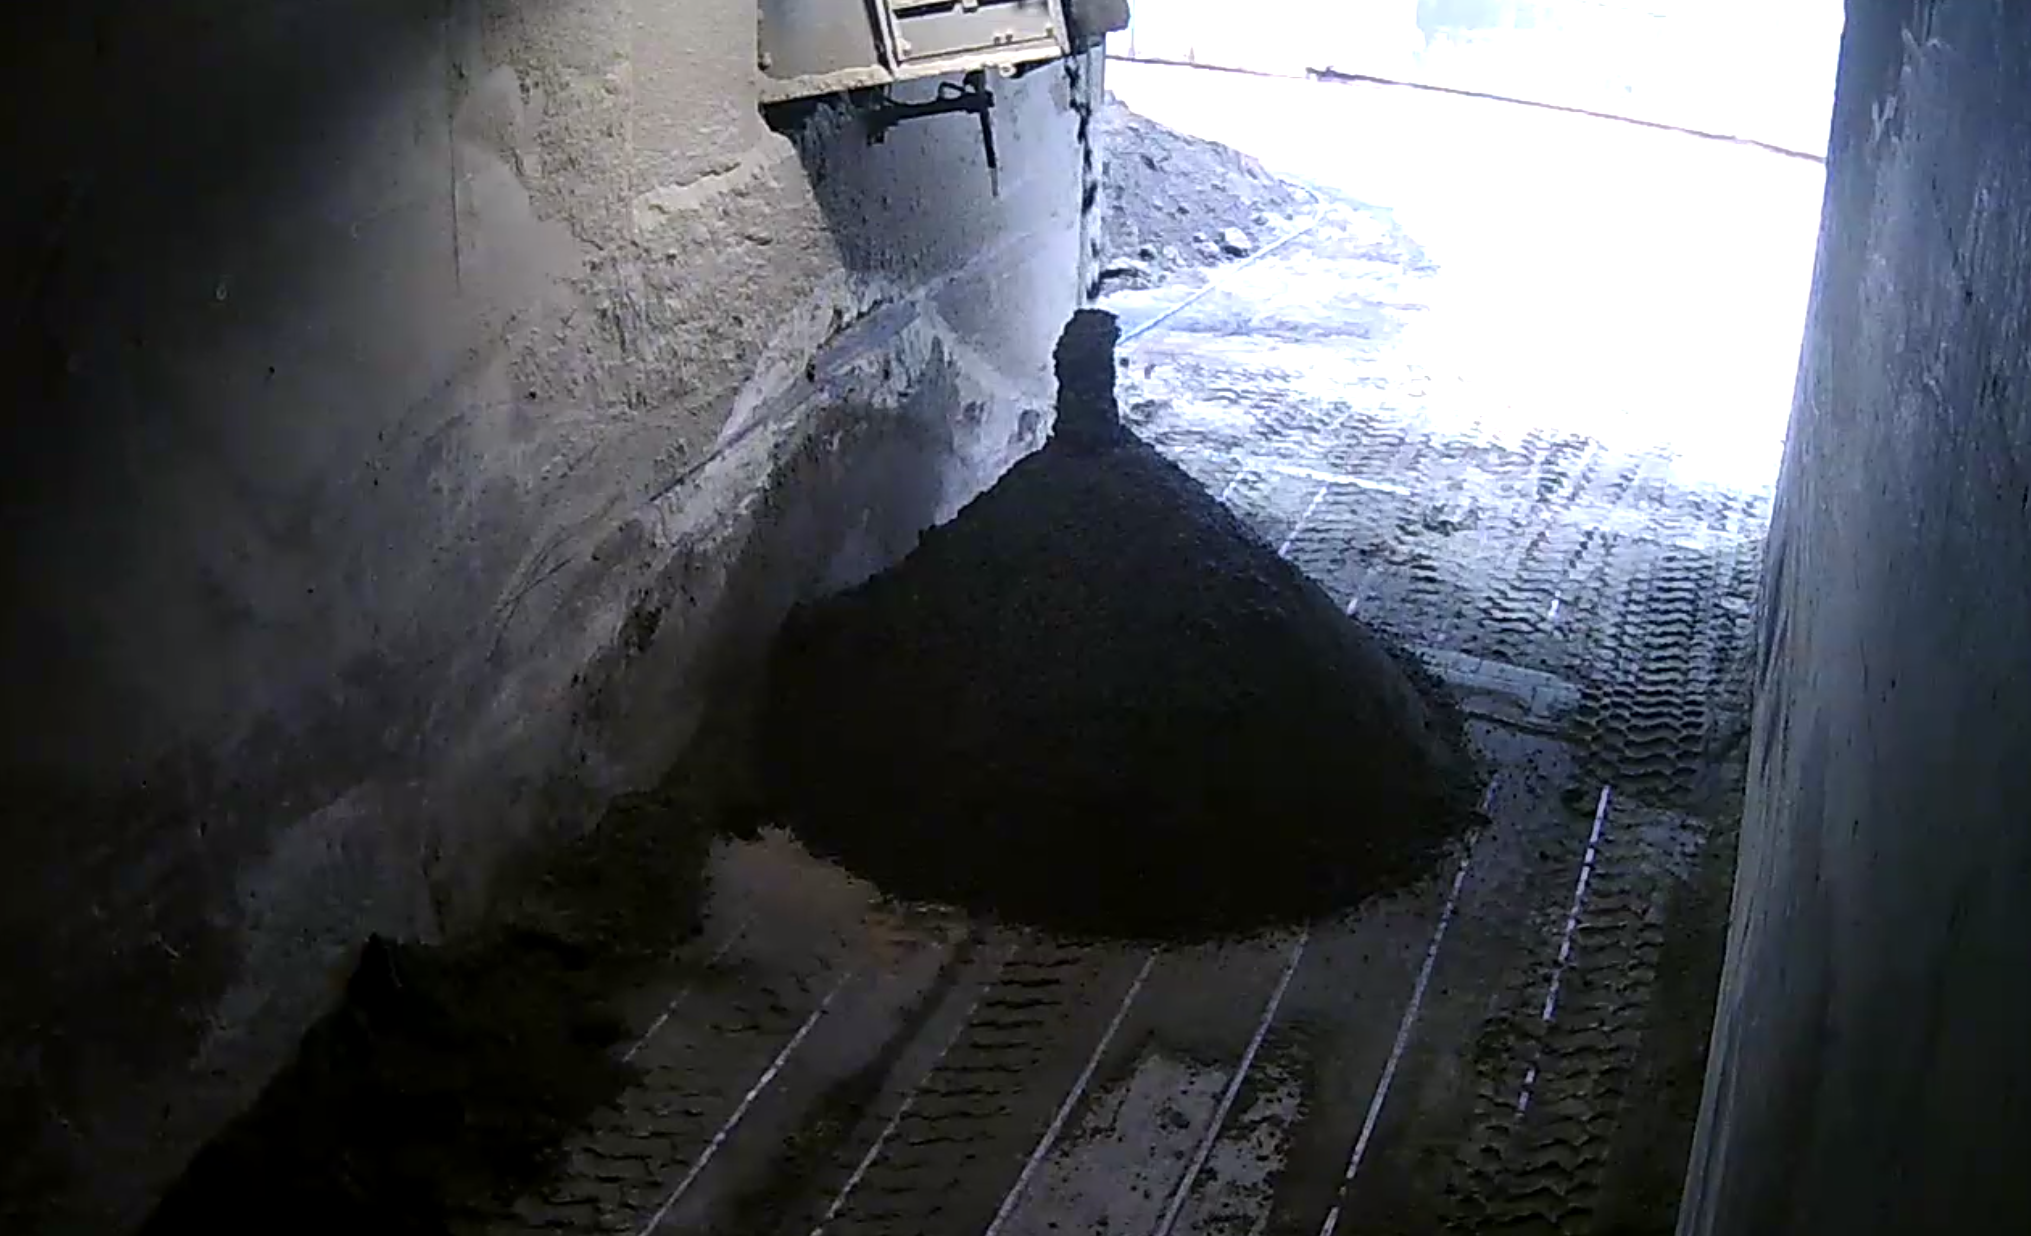pile: (754, 309, 1472, 943)
